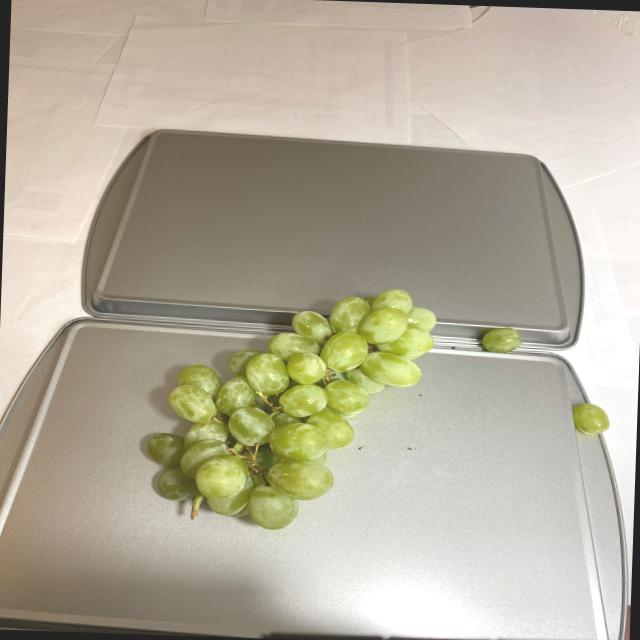grapes: (139, 285, 444, 534), (568, 398, 616, 436), (477, 326, 522, 353)
